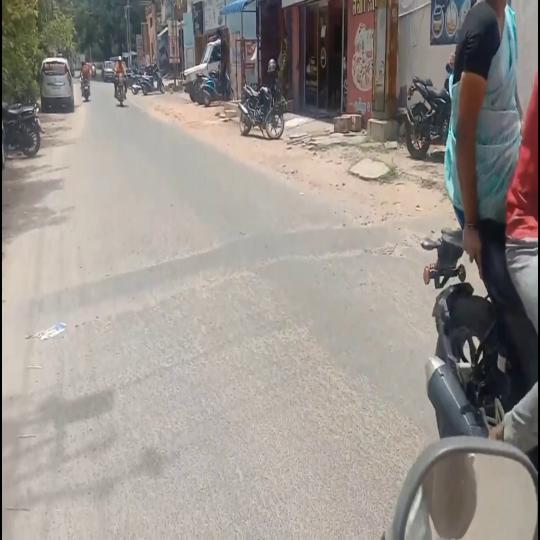Speed Bump: (2, 222, 420, 344)
